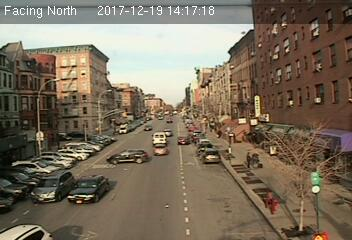car: (30, 172, 76, 207), (66, 176, 109, 203), (202, 149, 220, 165), (152, 143, 167, 155), (177, 135, 189, 144)
truck: (151, 132, 167, 145)
